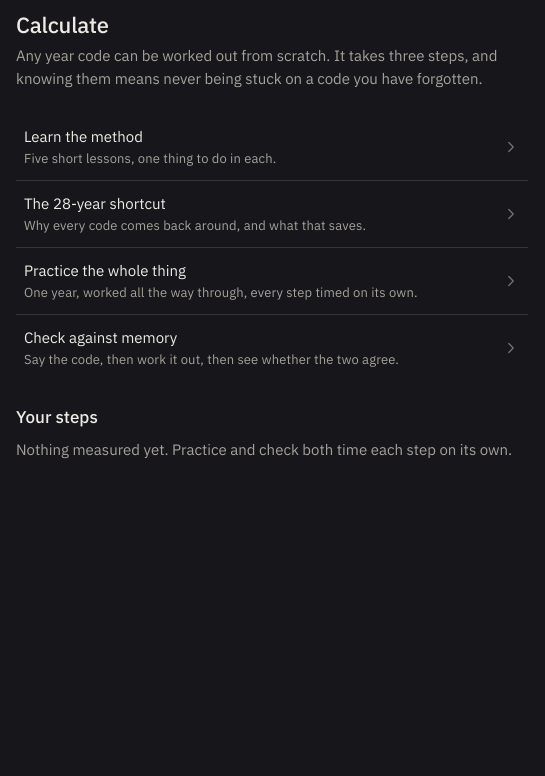
Test: Learn the method › shows the reason and a worked example before it asks anything
Click the button "Learn the method" at (272, 147), box left=16, top=114, right=528, bottom=180
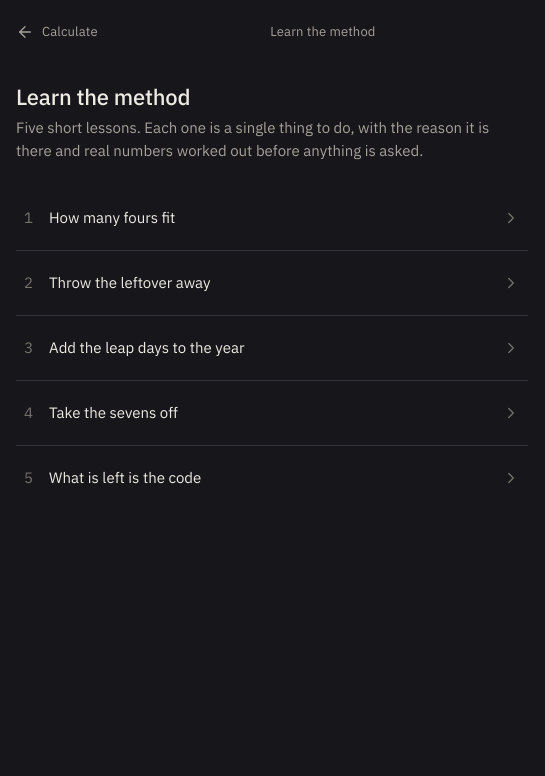
Click the button "1 How many fours fit" at (112, 217), box left=16, top=186, right=528, bottom=250
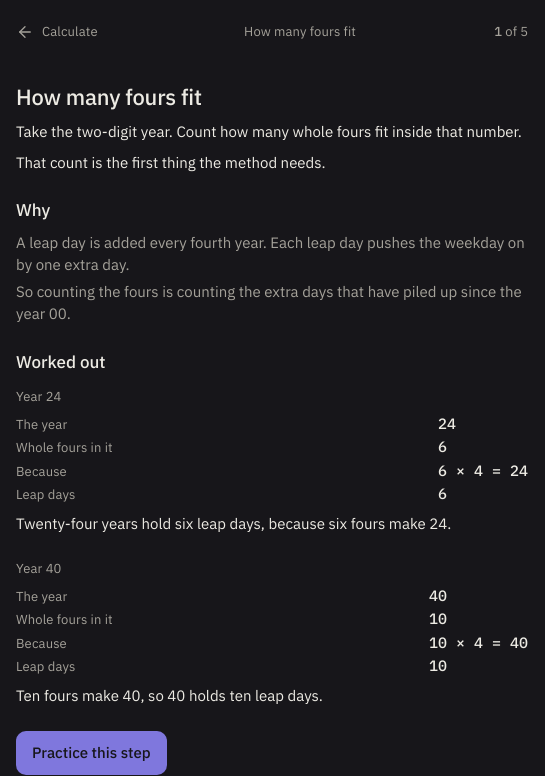
Expected: the heading "Why" is shown, left=16, top=199, right=50, bottom=221
Expected: the text "A leap day is added every fourth year" is shown, left=16, top=232, right=525, bottom=274
Expected: the text "Year 24" is shown, left=16, top=388, right=62, bottom=405
